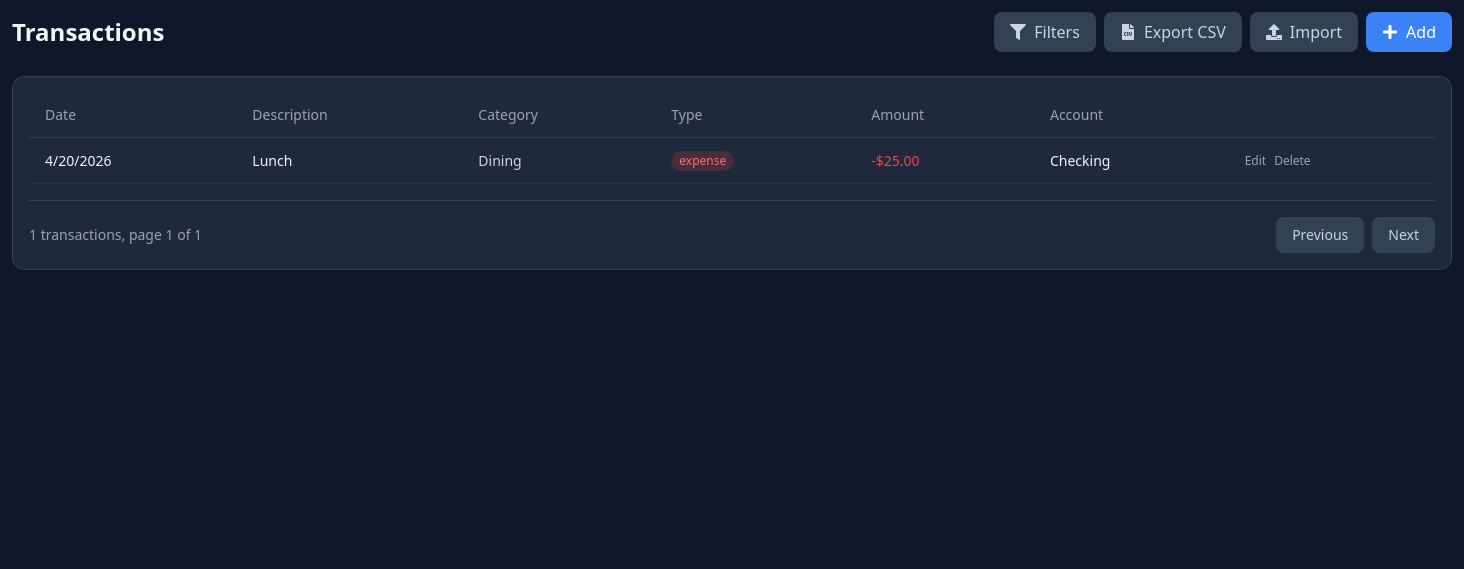
Test: Transactions › shows filter button and toggles filters panel
Click the button "Filters".
click(1045, 32)  # box [994, 12, 1096, 52]
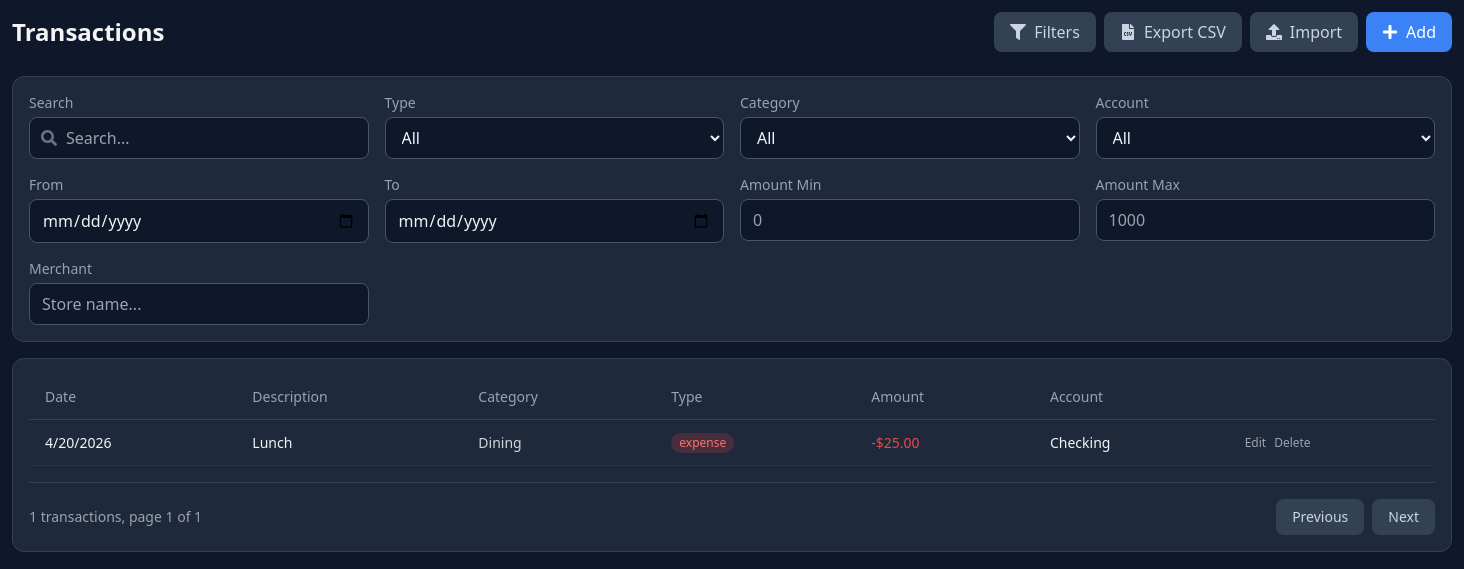
Now the field with placeholder "Search..." is shown, box [29, 117, 368, 159]
